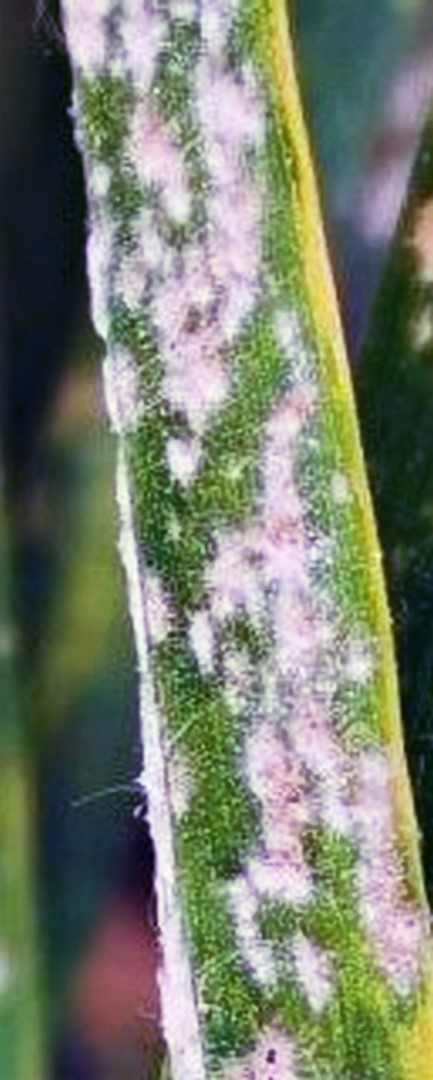Powdery Mildew: (74, 122, 417, 1006)
